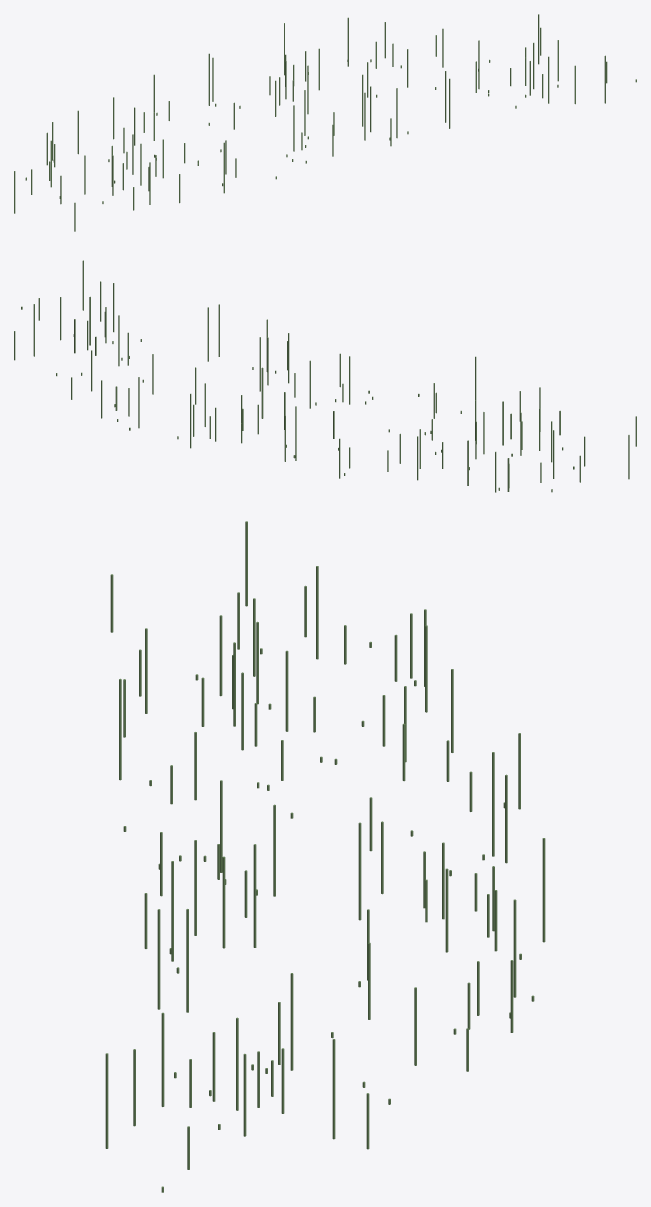
File: xiyuan-vegetation-00-near.glb
The picture shows the model from 3 angles, top to bottom: view 1: azimuth 30°, elevation 25°; view 2: azimuth 150°, elevation 25°; view 3: azimuth 270°, elevation 25°; orthographic projection. The views are drawn at different scales.
Visible parts, largest first — view 1: lotus stems; view 2: lotus stems; view 3: lotus stems.
Boxes of the visible parts, bbox=[...] form: lotus stems: bbox=[14, 14, 636, 231]; lotus stems: bbox=[14, 260, 636, 492]; lotus stems: bbox=[105, 521, 545, 1192].
Bounding box in the file's own units: 12.34 × 1.02 × 3.9.
